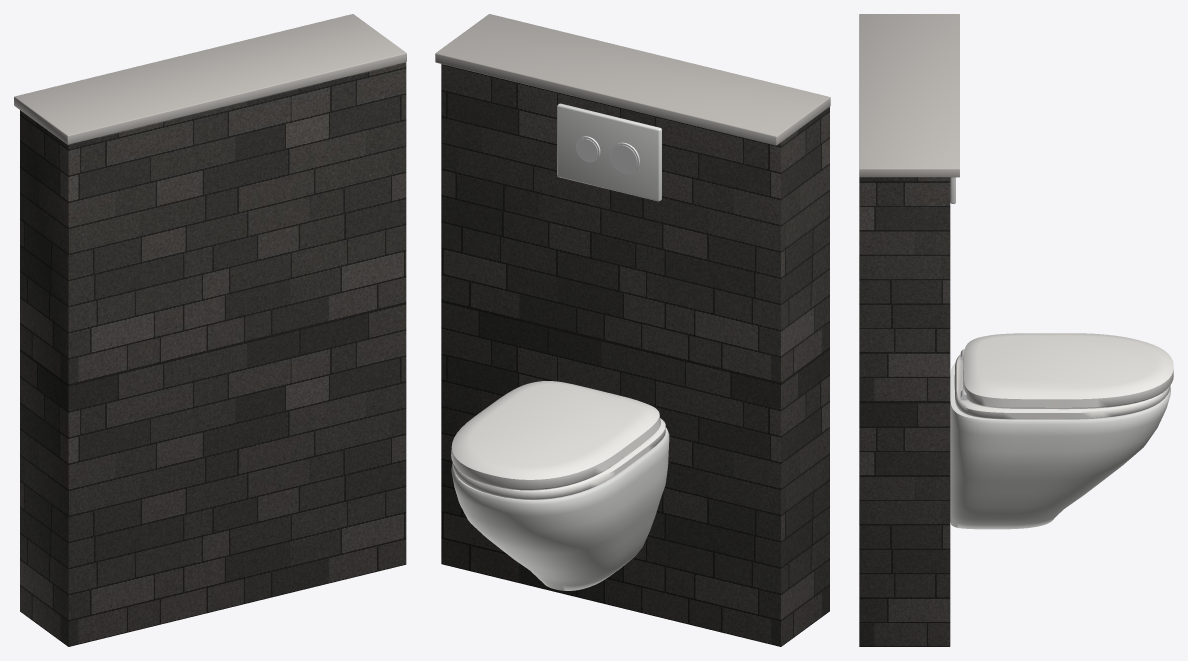
Rendered from recMPLG0hKfyqyLrq.glb.
3 renders of one model, left to right at view 1: azimuth 30°, elevation 25°; view 2: azimuth 150°, elevation 25°; view 3: azimuth 270°, elevation 25°, orthographic. The views are drawn at different scales.
Parts seen in each view (by area): view 1: WC_Salle_De_Bain_Corps; view 2: WC_Salle_De_Bain_Corps; view 3: WC_Salle_De_Bain_Corps.
Part boxes in pixels (x1=…): WC_Salle_De_Bain_Corps: x1=14, y1=14, x2=406, y2=646; WC_Salle_De_Bain_Corps: x1=435, y1=14, x2=830, y2=646; WC_Salle_De_Bain_Corps: x1=859, y1=14, x2=1173, y2=646.
Bounding box in the file's own units: 0.814 × 1.17 × 0.698.
Materials: 6 (1 with a texture image).
